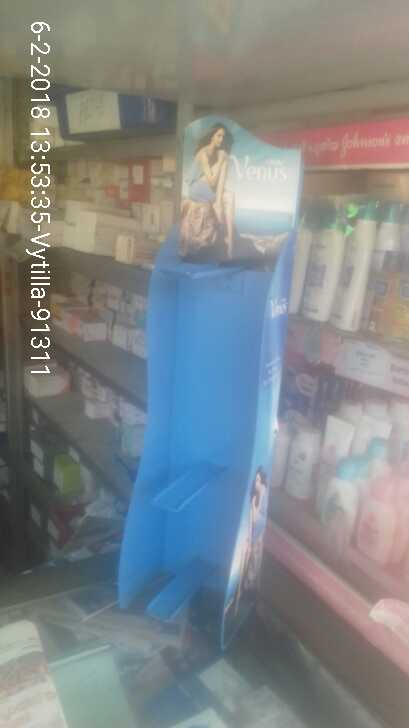reject: (180, 227, 280, 326)
